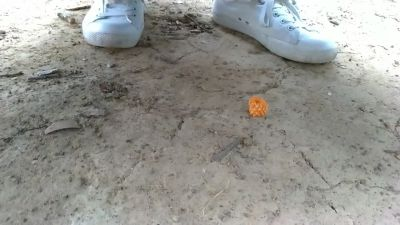eggs: (249, 93, 272, 116)
